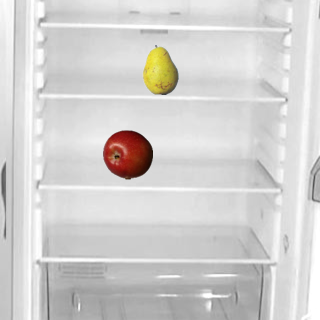Apple Braeburn: (102, 129, 152, 179)
Pear Monster: (135, 44, 185, 94)
